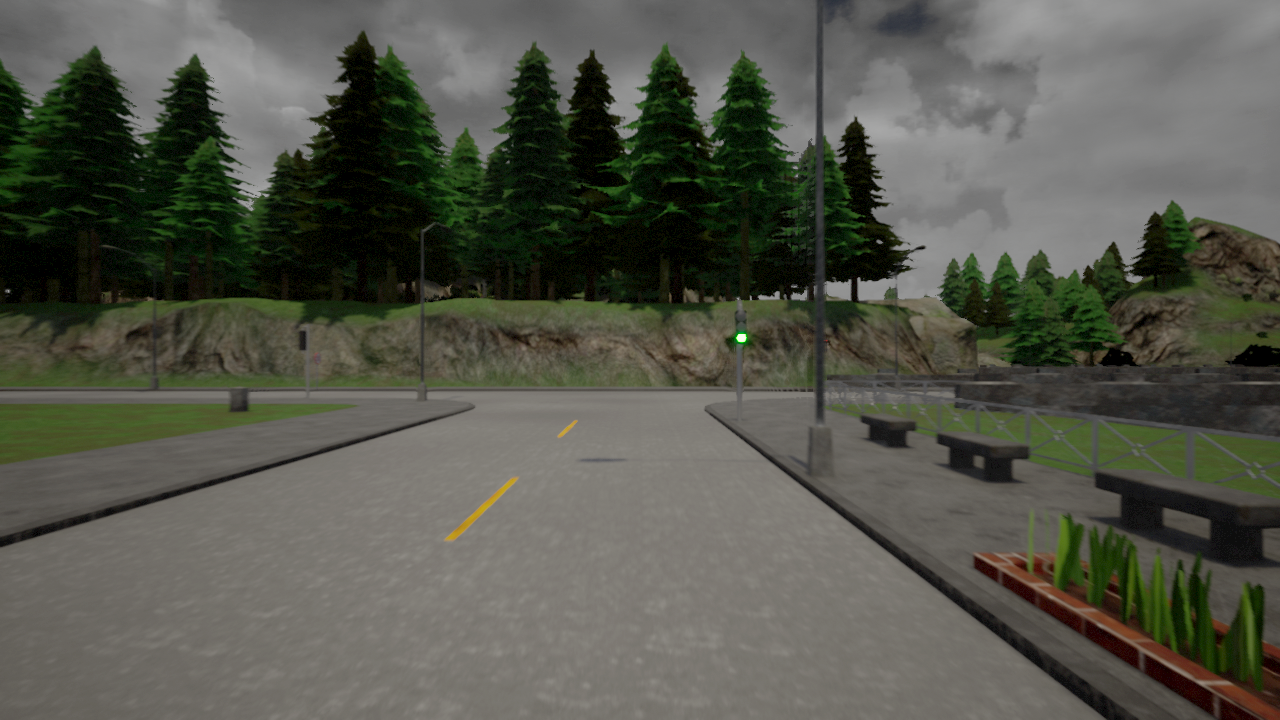green: (735, 308, 746, 346)
